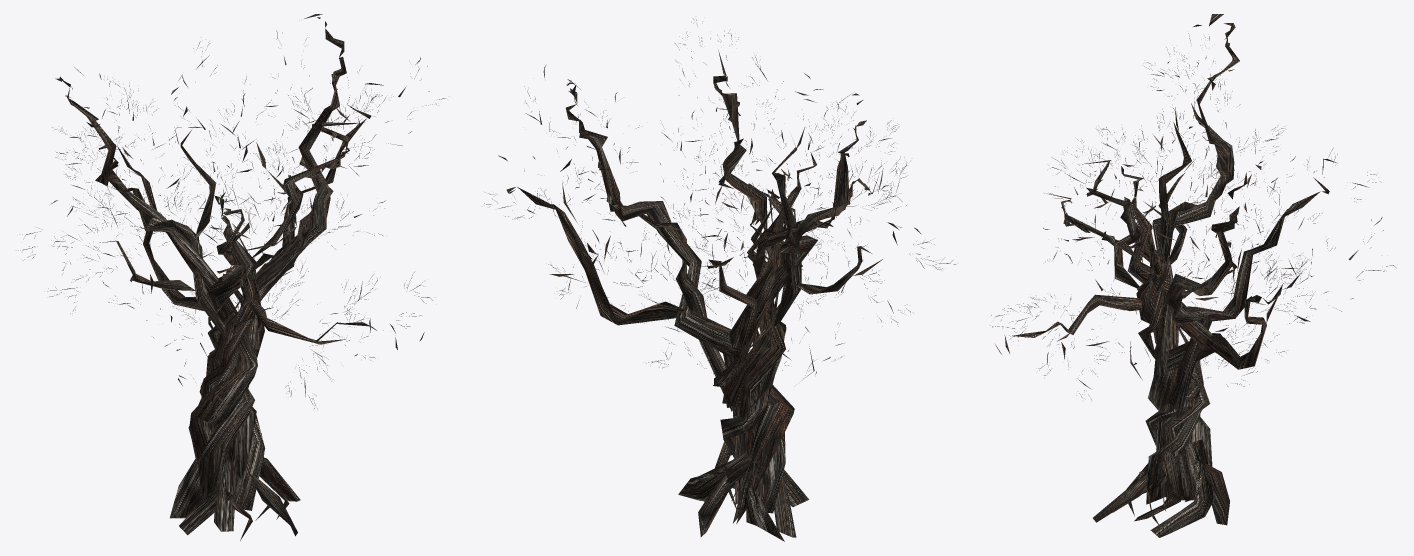
File: tree_dead_01.glb
3 renders of one model, left to right at view 1: azimuth 30°, elevation 25°; view 2: azimuth 150°, elevation 25°; view 3: azimuth 270°, elevation 25°, orthographic. The views are drawn at different scales.
Parts seen in each view (by area): view 1: dead_tree_dead_tree_mat.1_0; view 2: dead_tree_dead_tree_mat.1_0; view 3: dead_tree_dead_tree_mat.1_0.
Part boxes in pixels (bbox=[...]): dead_tree_dead_tree_mat.1_0: bbox=[18, 14, 445, 540]; dead_tree_dead_tree_mat.1_0: bbox=[484, 19, 955, 541]; dead_tree_dead_tree_mat.1_0: bbox=[990, 14, 1395, 537].
Bounding box in the file's own units: 9.29 × 9.9 × 8.1.
Materials: 2 (2 with a texture image).
